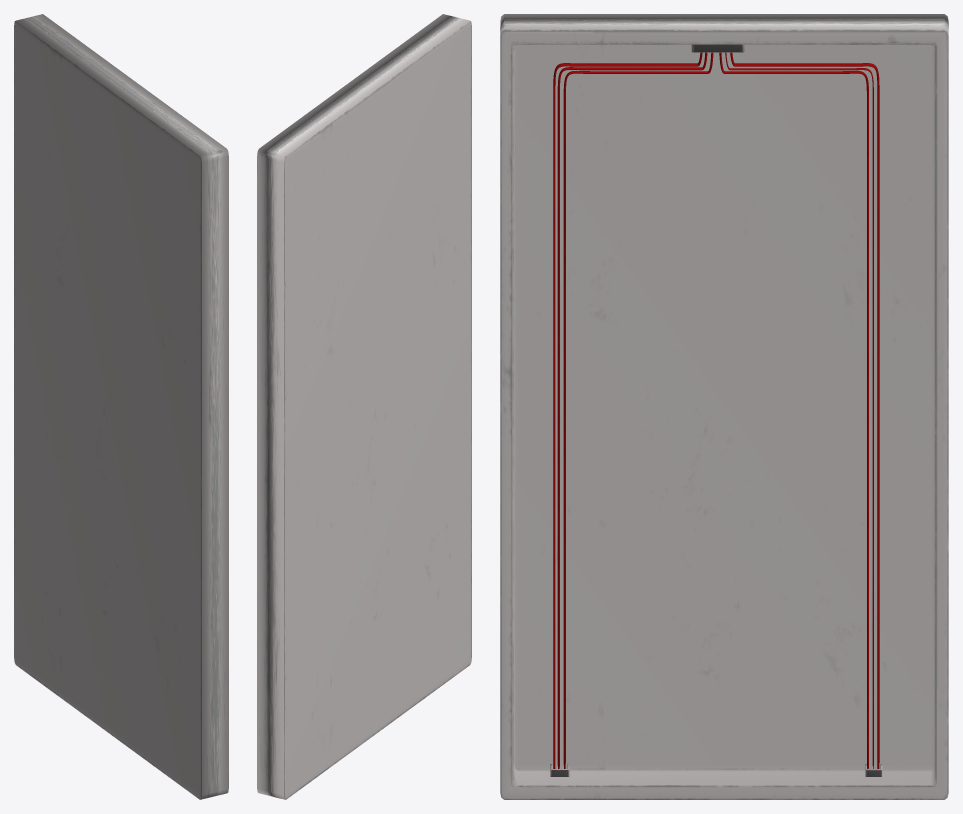
The model's file is forPanel1.fbx.
3 renders of one model, left to right at view 1: azimuth 30°, elevation 25°; view 2: azimuth 150°, elevation 25°; view 3: azimuth 270°, elevation 25°, orthographic. The views are drawn at different scales.
Parts seen in each view (by area): view 1: Cube; view 2: Cube; view 3: Cube, BezierCurve.002, BezierCurve.005, BezierCurve, BezierCurve.001, BezierCurve.004, BezierCurve.003.
Part boxes in pixels (bbox=[...]): Cube: bbox=[14, 14, 228, 799]; Cube: bbox=[257, 14, 471, 799]; Cube: bbox=[500, 14, 948, 799]; BezierCurve.002: bbox=[553, 52, 702, 768]; BezierCurve.005: bbox=[730, 52, 879, 768]; BezierCurve: bbox=[557, 52, 707, 768]; BezierCurve.001: bbox=[563, 52, 713, 768]; BezierCurve.004: bbox=[719, 52, 868, 768]; BezierCurve.003: bbox=[725, 52, 873, 768].
Bounding box in the file's own units: 31.62 × 706 × 373.
Materials: 3 (3 with a texture image).
